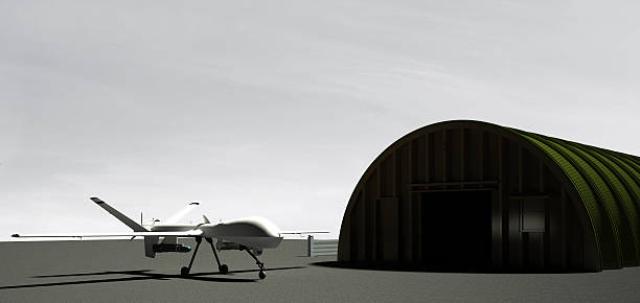military drone: (10, 197, 329, 279)
